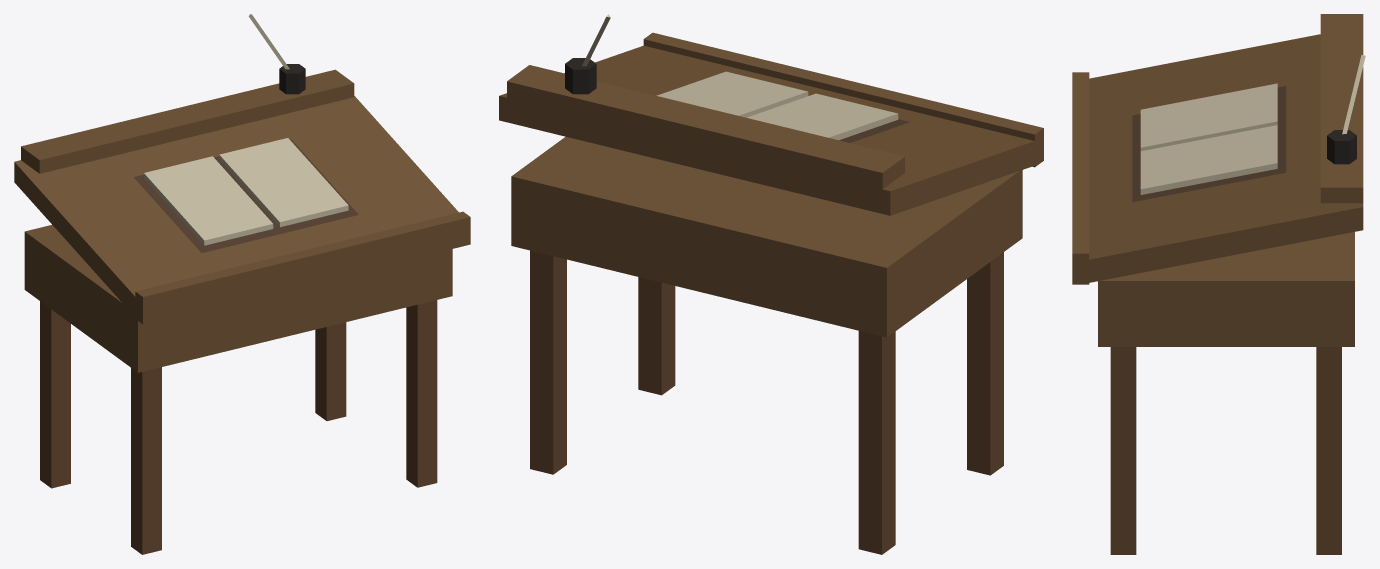
File: Desk.fbx
The picture shows the model from 3 angles, left to right: view 1: azimuth 30°, elevation 25°; view 2: azimuth 150°, elevation 25°; view 3: azimuth 270°, elevation 25°; orthographic projection. The views are drawn at different scales.
Visible parts, largest first — view 1: Desk; view 2: Desk; view 3: Desk.
Boxes of the visible parts, x1,y1,x2,y2 form: Desk: (14,14,470,554); Desk: (499,14,1043,554); Desk: (1072,14,1365,554).
Size of the model in its own units: 1 by 1.18 by 0.6854.
